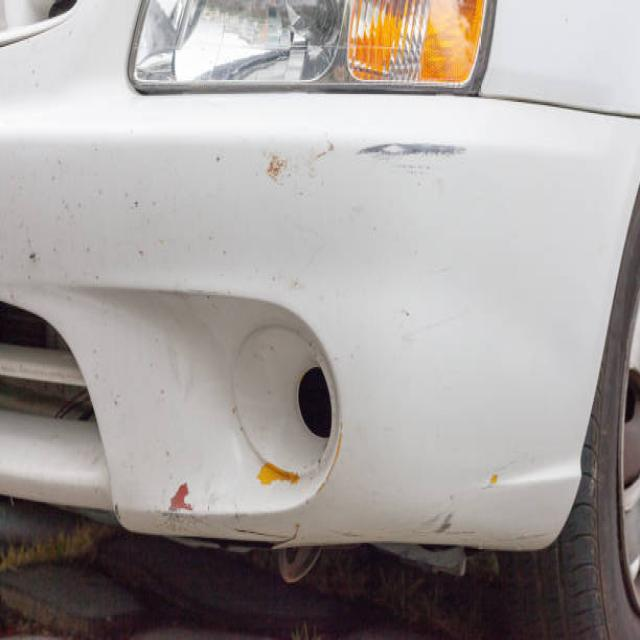scratch: (224, 482, 548, 550), (311, 126, 505, 196)
